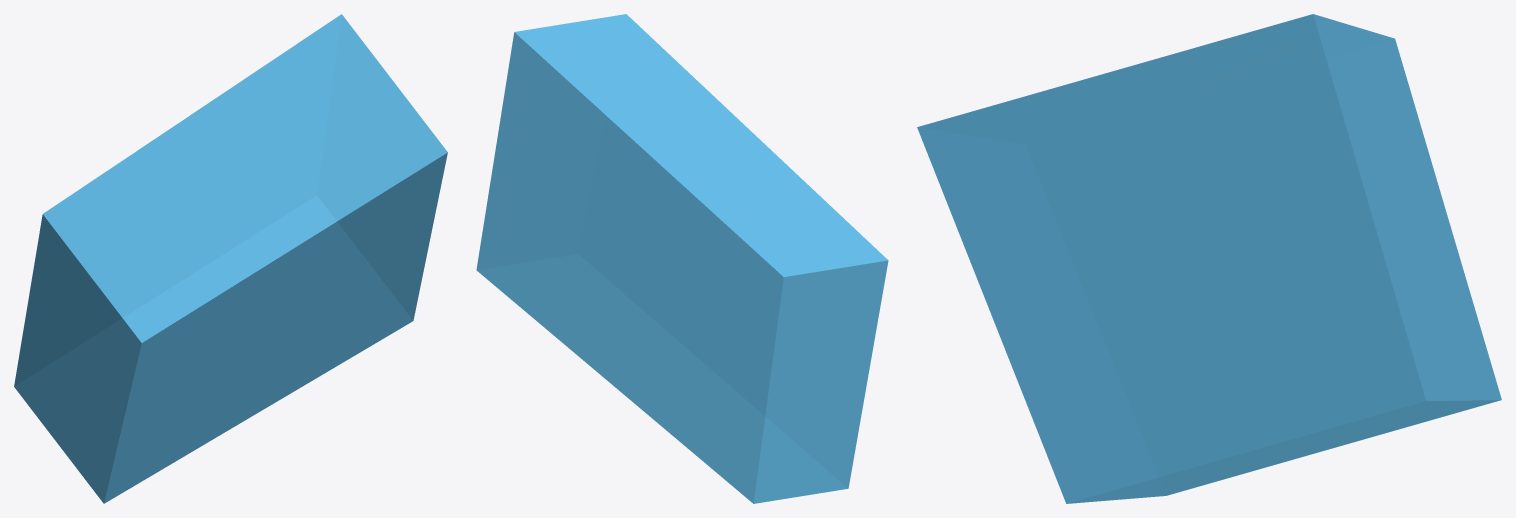
File: Event_421127236_HErechit_8.fbx
3 views of the same model, side by side, from view 1: azimuth 30°, elevation 25°; view 2: azimuth 150°, elevation 25°; view 3: azimuth 270°, elevation 25° (orthographic). The views are drawn at different scales.
Parts seen in each view (by area): view 1: Model; view 2: Model; view 3: Model.
Part boxes in pixels (left/top/right/bottom): Model: left=14, top=14, right=447, bottom=503; Model: left=476, top=14, right=888, bottom=503; Model: left=917, top=14, right=1501, bottom=503.
Bounding box in the file's own units: 0.7554 × 1 × 0.7256.
